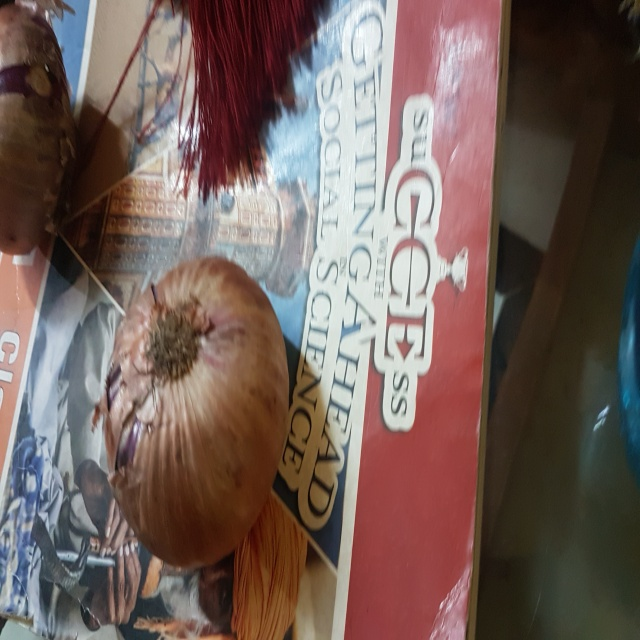onion: (96, 246, 304, 581)
